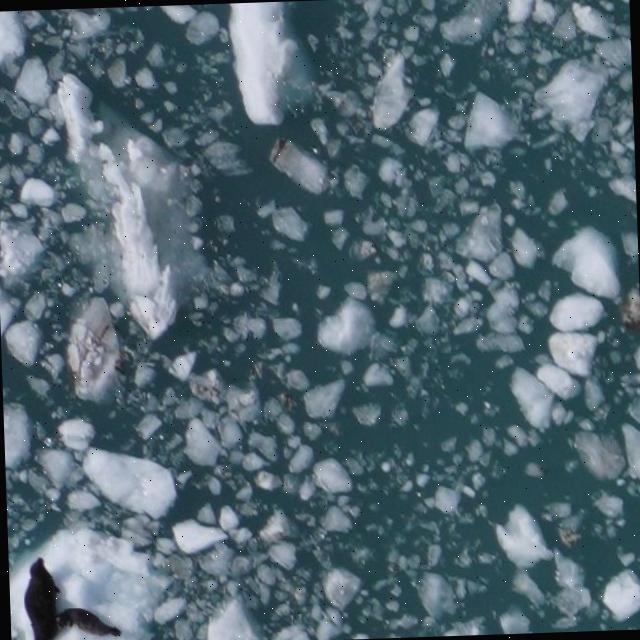seal: (21, 554, 64, 640), (58, 606, 121, 639)
